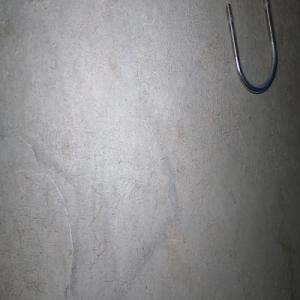ClampPart: (225, 0, 278, 95)
